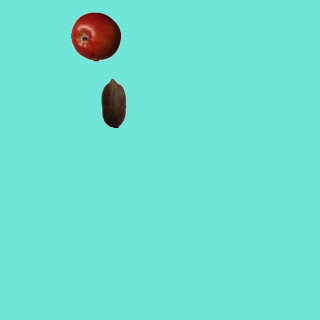Apple Braeburn: (70, 11, 120, 61)
Nut Pecan: (88, 77, 138, 127)
